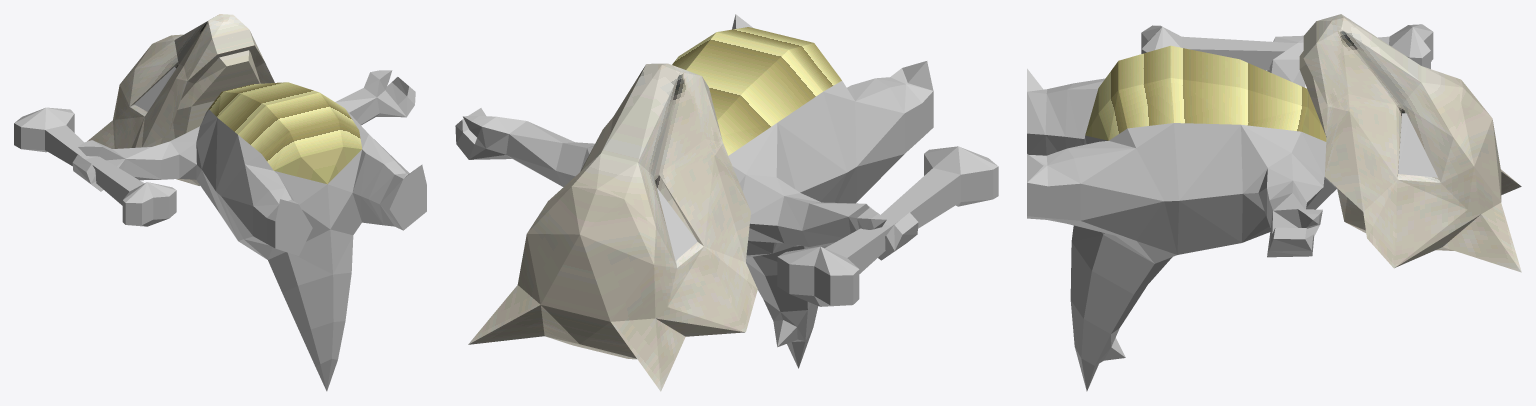
The model's file is BR_Marowak.obj.
3 renders of one model, left to right at view 1: azimuth 30°, elevation 25°; view 2: azimuth 150°, elevation 25°; view 3: azimuth 270°, elevation 25°, orthographic. The views are drawn at different scales.
Visible parts, largest first — view 1: garagara; view 2: garagara; view 3: garagara.
Boxes of the visible parts, bbox=[...] form: garagara: bbox=[14, 14, 426, 391]; garagara: bbox=[455, 14, 998, 391]; garagara: bbox=[1027, 14, 1521, 391].
Bounding box in the file's own units: 9.72 × 8.2 × 9.87.
